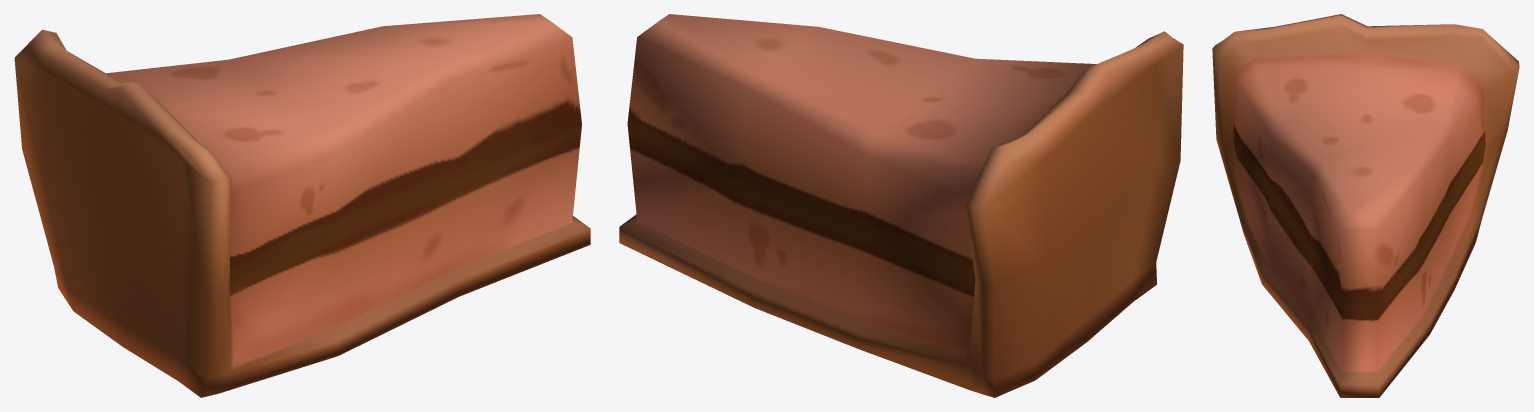
File: Cake.fbx
3 renders of one model, left to right at view 1: azimuth 30°, elevation 25°; view 2: azimuth 150°, elevation 25°; view 3: azimuth 270°, elevation 25°, orthographic. The views are drawn at different scales.
Parts seen in each view (by area): view 1: Cake; view 2: Cake; view 3: Cake.
Boxes of the visible parts, x1,y1,x2,y2 form: Cake: [14, 14, 590, 397]; Cake: [619, 14, 1183, 397]; Cake: [1212, 14, 1519, 397].
Bounding box in the file's own units: 37.1 × 20.41 × 26.95.
Materials: 1 (1 with a texture image).
